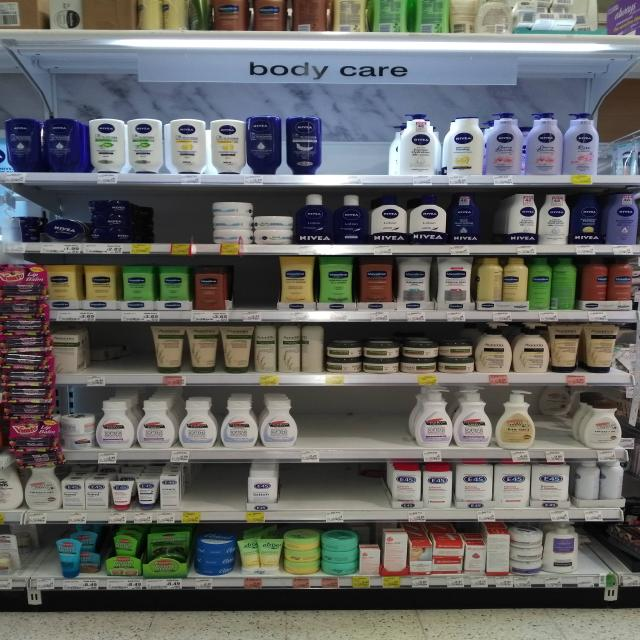empty: (293, 387, 423, 449), (278, 458, 394, 514), (317, 117, 398, 182), (140, 188, 214, 247), (527, 384, 578, 456), (84, 325, 159, 373), (588, 112, 640, 178), (179, 464, 249, 508), (573, 521, 630, 575), (24, 525, 68, 580)
